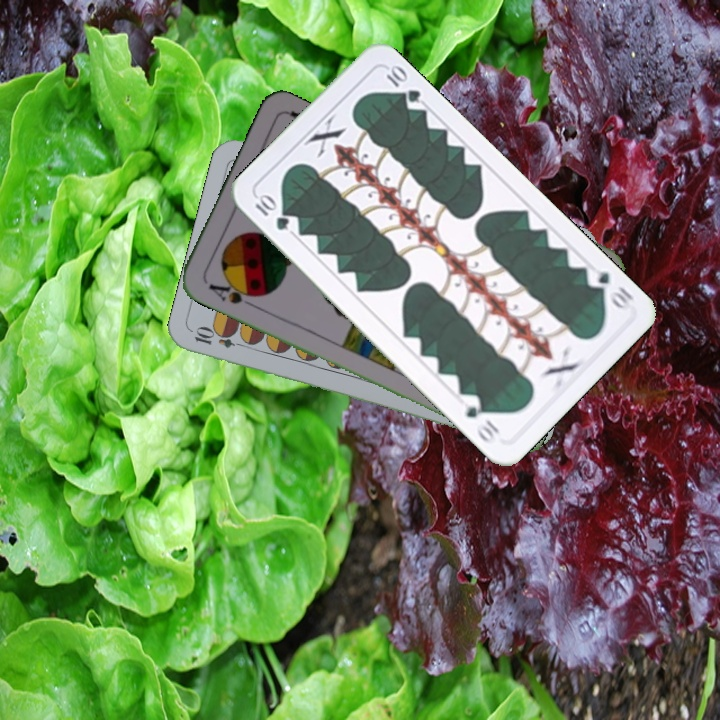E10: (190, 325, 249, 351)
G10: (582, 267, 637, 312), (251, 190, 292, 234)
SA: (204, 277, 262, 307)
